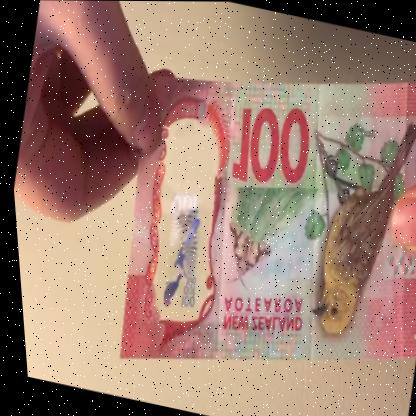100B: (139, 134, 227, 320)
